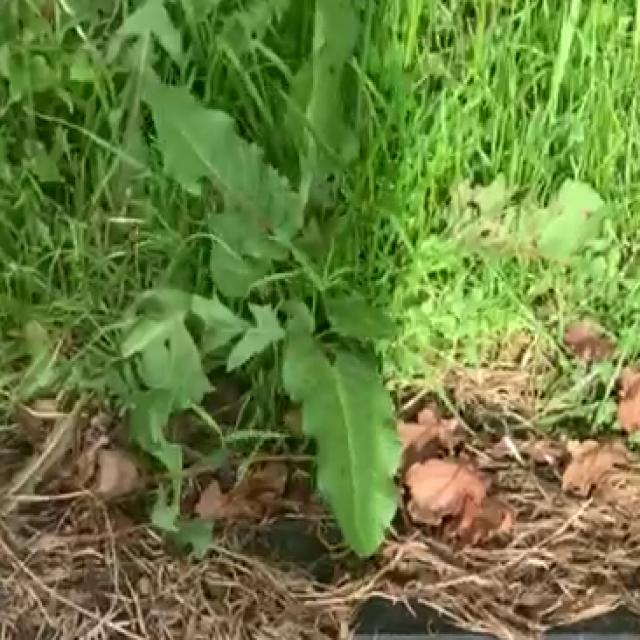organic waste: (114, 0, 519, 550)
